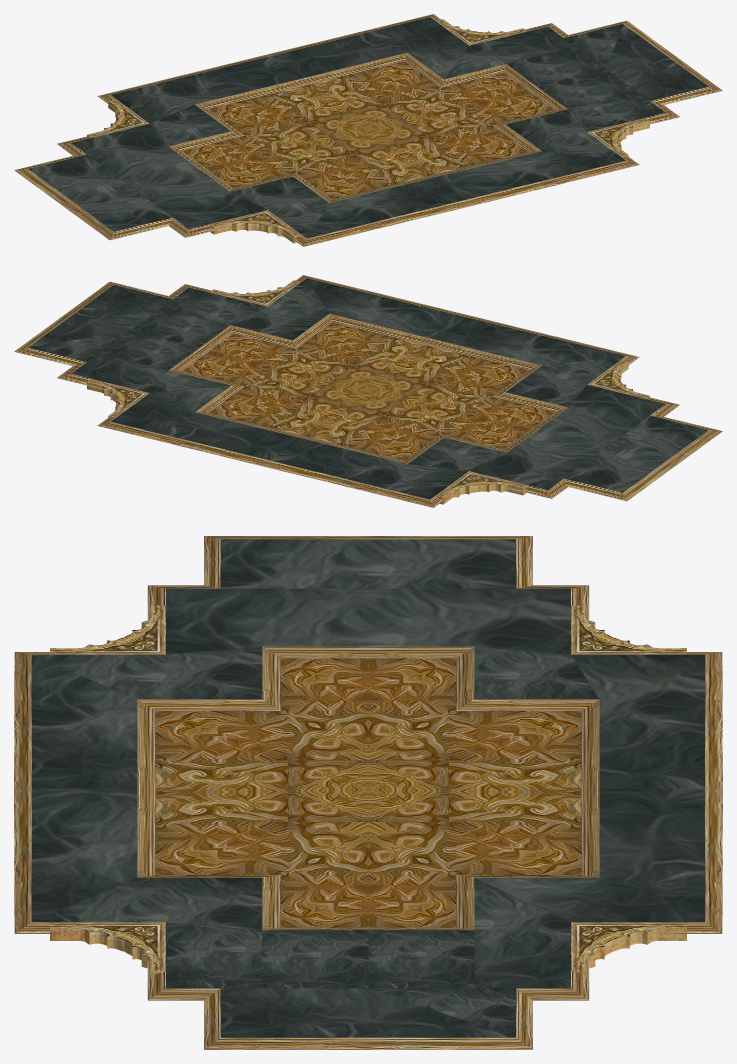
File: S_Build_City213.FBX
The picture shows the model from 3 angles, top to bottom: view 1: azimuth 30°, elevation 25°; view 2: azimuth 150°, elevation 25°; view 3: azimuth 270°, elevation 25°; orthographic projection. The views are drawn at different scales.
Parts seen in each view (by area): view 1: S_Build_City213; view 2: S_Build_City213; view 3: S_Build_City213.
Boxes of the visible parts, x1,y1,x2,y2 form: S_Build_City213: [14, 14, 722, 246]; S_Build_City213: [14, 275, 722, 507]; S_Build_City213: [14, 536, 722, 1049].
Size of the model in its own units: 2218 by 24.42 by 1293.
